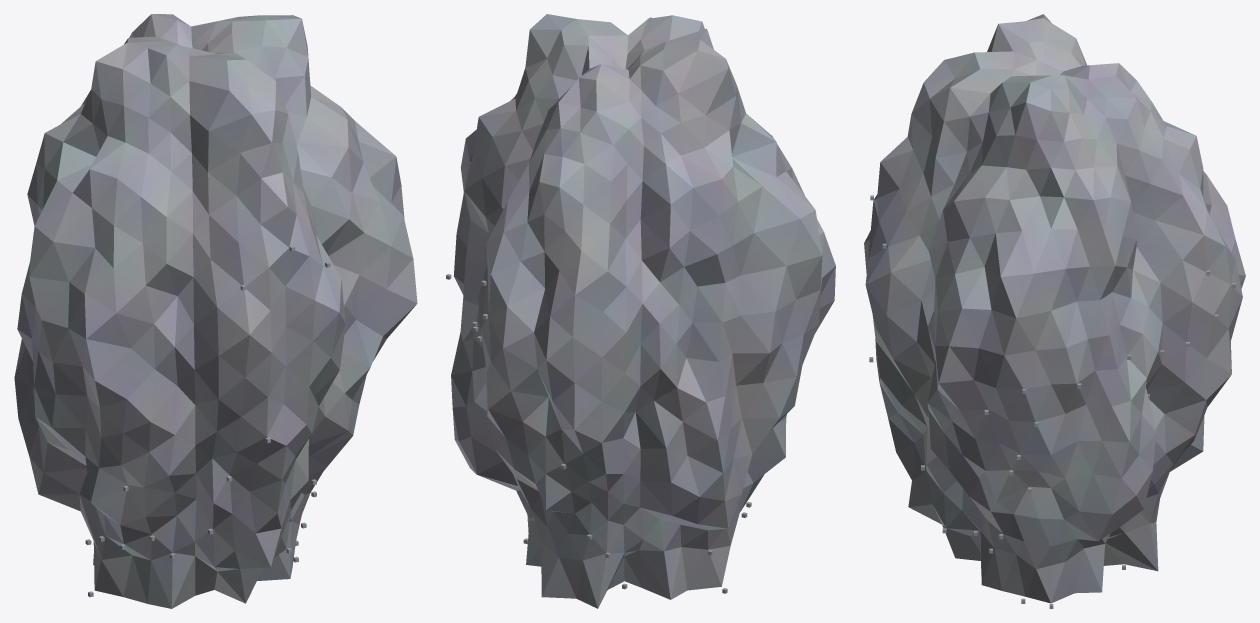
File: cryonite_deposit.glb
3 renders of one model, left to right at view 1: azimuth 30°, elevation 25°; view 2: azimuth 150°, elevation 25°; view 3: azimuth 270°, elevation 25°, orthographic. The views are drawn at different scales.
Visible parts, largest first — view 1: world; view 2: world; view 3: world.
Boxes of the visible parts, x1,y1,x2,y2 form: world: (14,14,417,608); world: (446,14,835,608); world: (864,14,1245,608).
Bounding box in the file's own units: 0.6005 × 0.85 × 0.5707.
